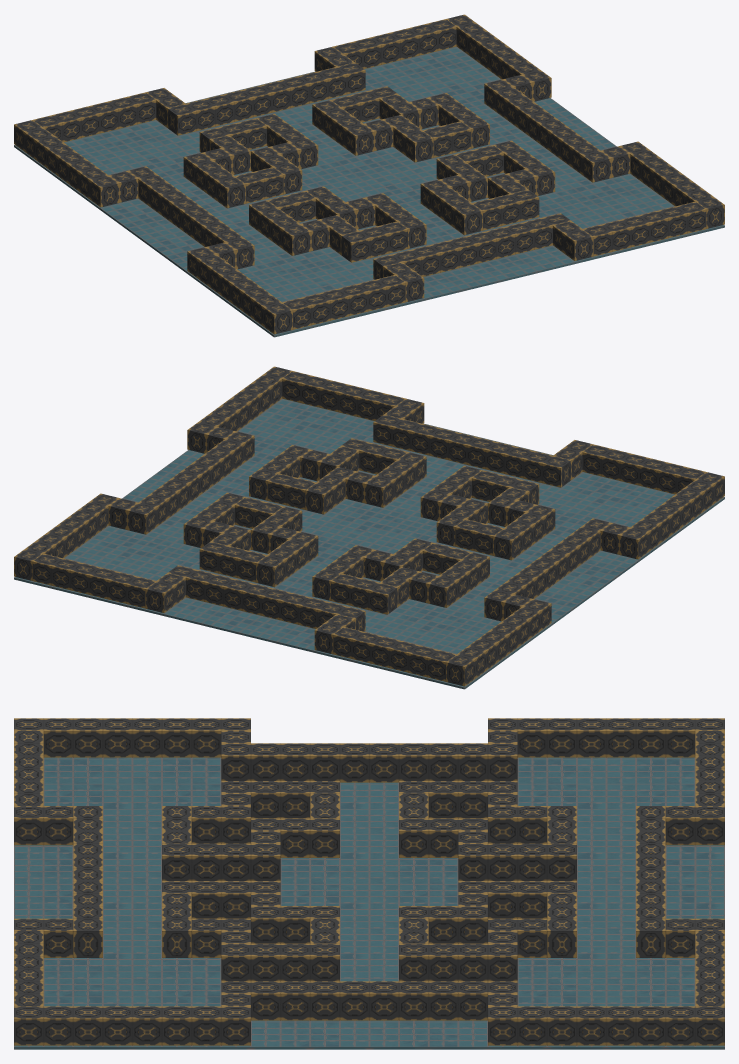
Rendered from Maze.obj.
3 views of the same model, one above another, from view 1: azimuth 30°, elevation 25°; view 2: azimuth 150°, elevation 25°; view 3: azimuth 270°, elevation 25° (orthographic). The views are drawn at different scales.
Visible parts, largest first — view 1: Maze_Cube.003_Material.001, Maze_Cube.003_3x1.007, Maze_Cube.003_3x1.006, Maze_Cube.003_4x1, Maze_Cube.003_3x1.004, Maze_Cube.003_3x1.008, Maze_Cube.003_3x1.001, Maze_Cube.003_1x1_side, Maze_Cube.003_3x1.003, Maze_Cube.003_3x1, Maze_Cube.003_3x1.005, Maze_Cube.003_3x1.002 (+9 smaller); view 2: Maze_Cube.003_Material.001, Maze_Cube.003_3x1.007, Maze_Cube.003_3x1.006, Maze_Cube.003_4x1, Maze_Cube.003_3x1.004, Maze_Cube.003_3x1.008, Maze_Cube.003_3x1.001, Maze_Cube.003_1x1_side, Maze_Cube.003_3x1.003, Maze_Cube.003_3x1, Maze_Cube.003_3x1.005, Maze_Cube.003_3x1.002 (+9 smaller); view 3: Maze_Cube.003_Material.001, Maze_Cube.003_3x1.006, Maze_Cube.003_4x1, Maze_Cube.003_3x1.008, Maze_Cube.003_3x1, Maze_Cube.003_3x1.007, Maze_Cube.003_3x1.005, Maze_Cube.003_3x1.002, Maze_Cube.003_3x1.004, Maze_Cube.003_3x1.001, Maze_Cube.003_3x1.003, Maze_Cube.003_1x1_side.004 (+4 smaller).
Part boxes in pixels (x1,y1,x2,y2): Maze_Cube.003_Material.001: (14,46,724,337); Maze_Cube.003_3x1.007: (33,19,706,329); Maze_Cube.003_3x1.006: (14,14,724,334); Maze_Cube.003_4x1: (183,93,554,255); Maze_Cube.003_3x1.004: (167,62,571,276); Maze_Cube.003_3x1.008: (127,79,610,249); Maze_Cube.003_3x1.001: (200,86,539,262); Maze_Cube.003_1x1_side: (227,125,555,255); Maze_Cube.003_3x1.003: (235,121,503,222); Maze_Cube.003_3x1: (251,114,487,219); Maze_Cube.003_3x1.005: (146,46,592,282); Maze_Cube.003_3x1.002: (210,94,527,254); Maze_Cube.003_Material.001: (14,398,724,689); Maze_Cube.003_3x1.007: (32,371,705,681); Maze_Cube.003_3x1.006: (14,366,724,686); Maze_Cube.003_4x1: (184,445,555,607); Maze_Cube.003_3x1.004: (167,414,571,628); Maze_Cube.003_3x1.008: (128,431,611,601); Maze_Cube.003_3x1.001: (199,438,538,614); Maze_Cube.003_1x1_side: (183,477,511,607); Maze_Cube.003_3x1.003: (235,473,503,574); Maze_Cube.003_3x1: (251,466,487,571); Maze_Cube.003_3x1.005: (146,398,592,634); Maze_Cube.003_3x1.002: (211,446,528,606); Maze_Cube.003_Material.001: (14,757,724,1049); Maze_Cube.003_3x1.006: (14,718,724,1045); Maze_Cube.003_4x1: (162,781,576,981); Maze_Cube.003_3x1.008: (221,743,517,1020); Maze_Cube.003_3x1: (251,818,487,943); Maze_Cube.003_3x1.007: (14,731,724,1006); Maze_Cube.003_3x1.005: (14,806,724,957); Maze_Cube.003_3x1.002: (191,806,547,957); Maze_Cube.003_3x1.004: (73,806,665,930); Maze_Cube.003_3x1.001: (162,806,576,930); Maze_Cube.003_3x1.003: (310,793,428,943); Maze_Cube.003_1x1_side.004: (162,931,576,957).
Bounding box in the file's own units: 24 × 1.15 × 24.
